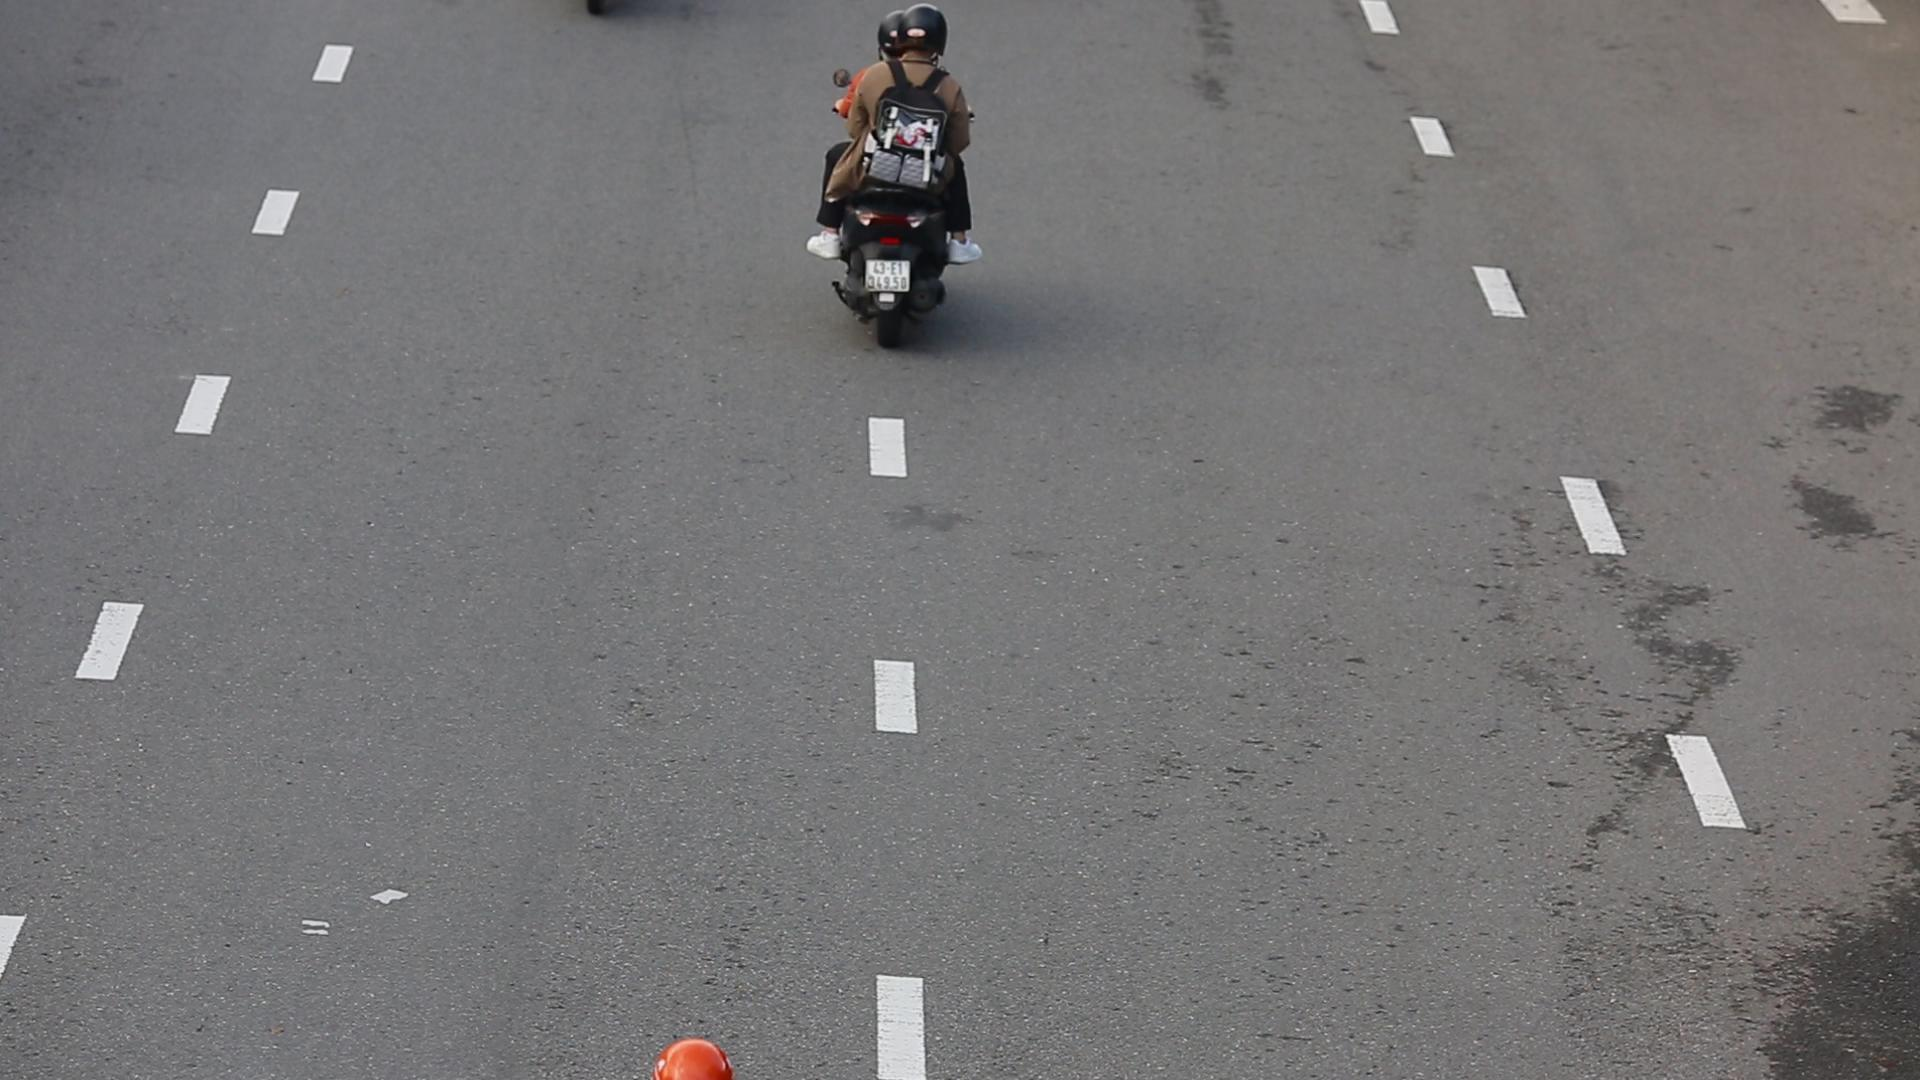motobike: (806, 0, 998, 372)
